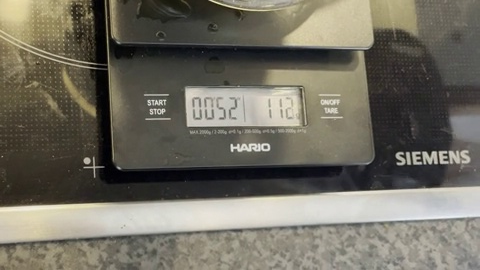display: (186, 86, 302, 125)
